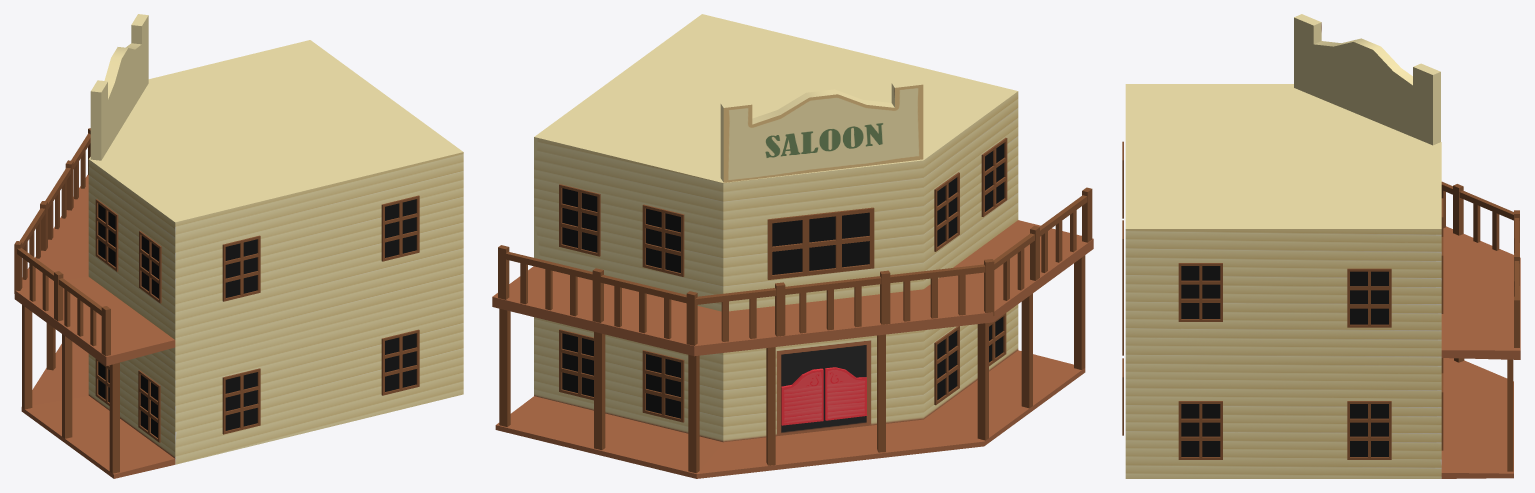
Rendered from Saloon.fbx.
The picture shows the model from 3 angles, left to right: view 1: azimuth 30°, elevation 25°; view 2: azimuth 150°, elevation 25°; view 3: azimuth 270°, elevation 25°; orthographic projection. The views are drawn at different scales.
Visible parts, largest first — view 1: pCube2, pCube3, pPlane15, pPlane9, pPlane11, pPlane16, pCube18, pCube25, pCube41, pCube55, pCube60, pCube16 (+8 smaller); view 2: pCube2, pCube3, pPlane4, pCube12, pPlane3, pPlane2, pPlane8, pPlane7, pPlane1, pPlane5, pCube13, pCube14 (+21 smaller); view 3: pCube2, pCube3, pPlane10, pPlane14, pPlane6, pPlane13, pCube28, pCube59, pCube22, pCube58, pCube15, pCube40 (+1 smaller).
Part boxes in pixels (x1=…): pCube2: x1=14, y1=40, x2=463, y2=478; pCube3: x1=90, y1=14, x2=148, y2=160; pPlane15: x1=225, y1=239, x2=257, y2=297; pPlane9: x1=225, y1=372, x2=257, y2=430; pPlane11: x1=385, y1=199, x2=416, y2=257; pPlane16: x1=385, y1=333, x2=416, y2=391; pCube18: x1=109, y1=362, x2=119, y2=473; pCube25: x1=222, y1=368, x2=260, y2=434; pCube41: x1=381, y1=329, x2=419, y2=395; pCube55: x1=381, y1=195, x2=419, y2=261; pCube60: x1=222, y1=235, x2=260, y2=301; pCube16: x1=22, y1=305, x2=32, y2=409; pCube2: x1=492, y1=14, x2=1093, y2=478; pCube3: x1=720, y1=79, x2=923, y2=182; pPlane4: x1=772, y1=212, x2=869, y2=274; pCube12: x1=767, y1=207, x2=874, y2=279; pPlane3: x1=781, y1=368, x2=823, y2=425; pPlane2: x1=825, y1=367, x2=867, y2=420; pPlane8: x1=562, y1=188, x2=597, y2=252; pPlane7: x1=646, y1=208, x2=680, y2=272; pPlane1: x1=646, y1=354, x2=680, y2=418; pPlane5: x1=562, y1=333, x2=593, y2=396; pCube13: x1=688, y1=355, x2=699, y2=473; pCube14: x1=594, y1=332, x2=605, y2=450; pCube2: x1=1125, y1=84, x2=1520, y2=478; pCube3: x1=1294, y1=14, x2=1440, y2=145; pPlane10: x1=1181, y1=266, x2=1220, y2=318; pPlane14: x1=1181, y1=404, x2=1220, y2=456; pPlane6: x1=1350, y1=271, x2=1388, y2=324; pPlane13: x1=1350, y1=404, x2=1388, y2=456; pCube28: x1=1178, y1=263, x2=1222, y2=321; pCube59: x1=1178, y1=401, x2=1222, y2=459; pCube22: x1=1347, y1=268, x2=1391, y2=327; pCube58: x1=1347, y1=401, x2=1391, y2=459; pCube15: x1=1507, y1=359, x2=1513, y2=471; pCube40: x1=1453, y1=184, x2=1463, y2=235.
Size of the model in its own units: 14.3 by 11.75 by 13.23.
